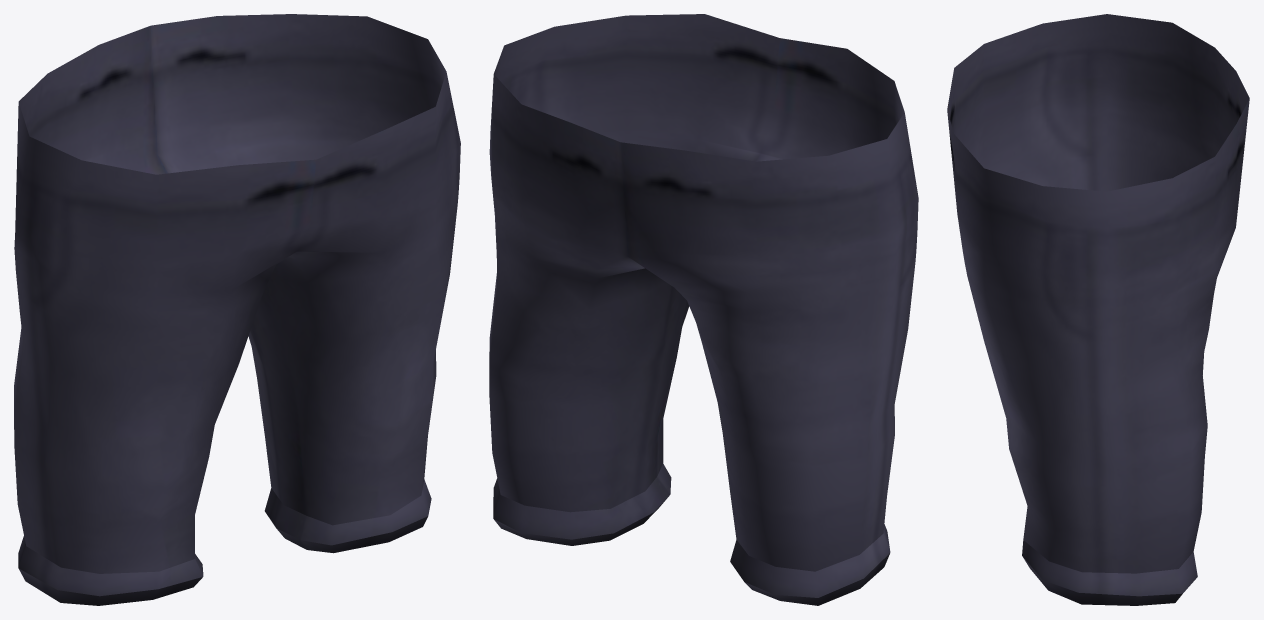
Rendered from pantalon_largoA.FBX.
The picture shows the model from 3 angles, left to right: view 1: azimuth 30°, elevation 25°; view 2: azimuth 150°, elevation 25°; view 3: azimuth 270°, elevation 25°; orthographic projection. The views are drawn at different scales.
Parts seen in each view (by area): view 1: pantalon_largo; view 2: pantalon_largo; view 3: pantalon_largo.
Boxes of the visible parts, left/top/right/bottom form: pantalon_largo: left=14, top=14, right=460, bottom=605; pantalon_largo: left=489, top=14, right=918, bottom=605; pantalon_largo: left=947, top=14, right=1249, bottom=605.
Bounding box in the file's own units: 5.36 × 5.72 × 3.62.
1 material, 1 textured.
